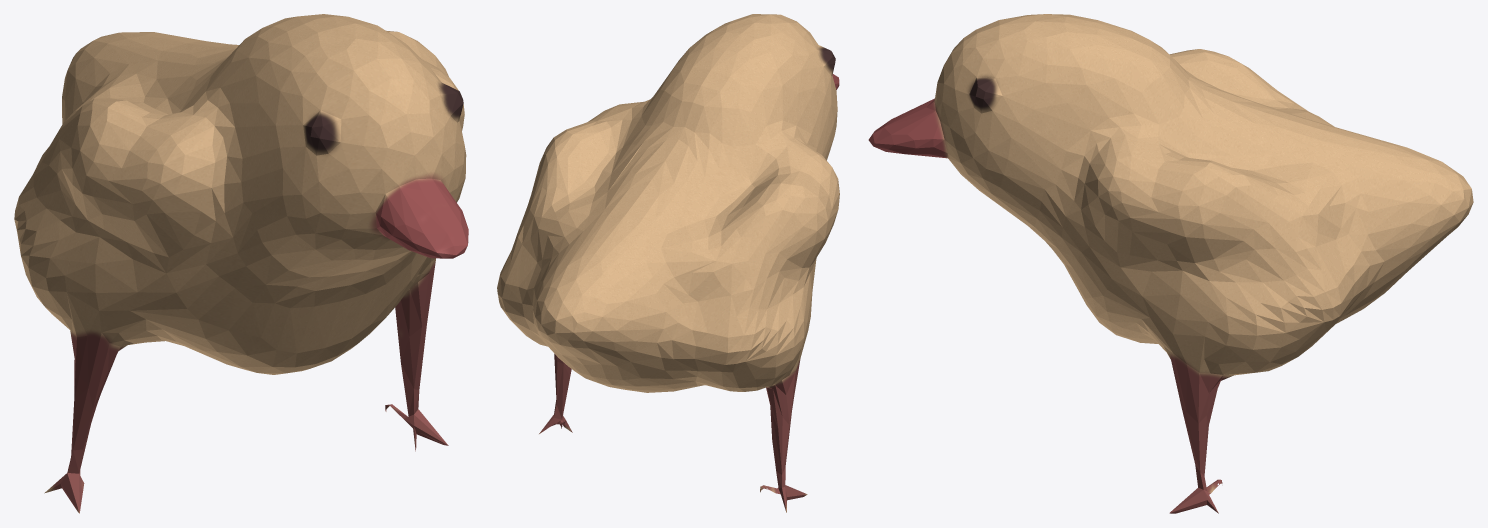
File: chicken_9.obj
The picture shows the model from 3 angles, left to right: view 1: azimuth 30°, elevation 25°; view 2: azimuth 150°, elevation 25°; view 3: azimuth 270°, elevation 25°; orthographic projection. The views are drawn at different scales.
Parts seen in each view (by area): view 1: TRYout:Group36674_Group36674; view 2: TRYout:Group36674_Group36674; view 3: TRYout:Group36674_Group36674.
Part boxes in pixels (box(x1,y1,x2,y2)): TRYout:Group36674_Group36674: box(14, 14, 468, 513); TRYout:Group36674_Group36674: box(497, 14, 839, 512); TRYout:Group36674_Group36674: box(868, 14, 1473, 513).
Size of the model in its own units: 3.77 by 4.85 by 6.22.
1 material, 1 textured.
